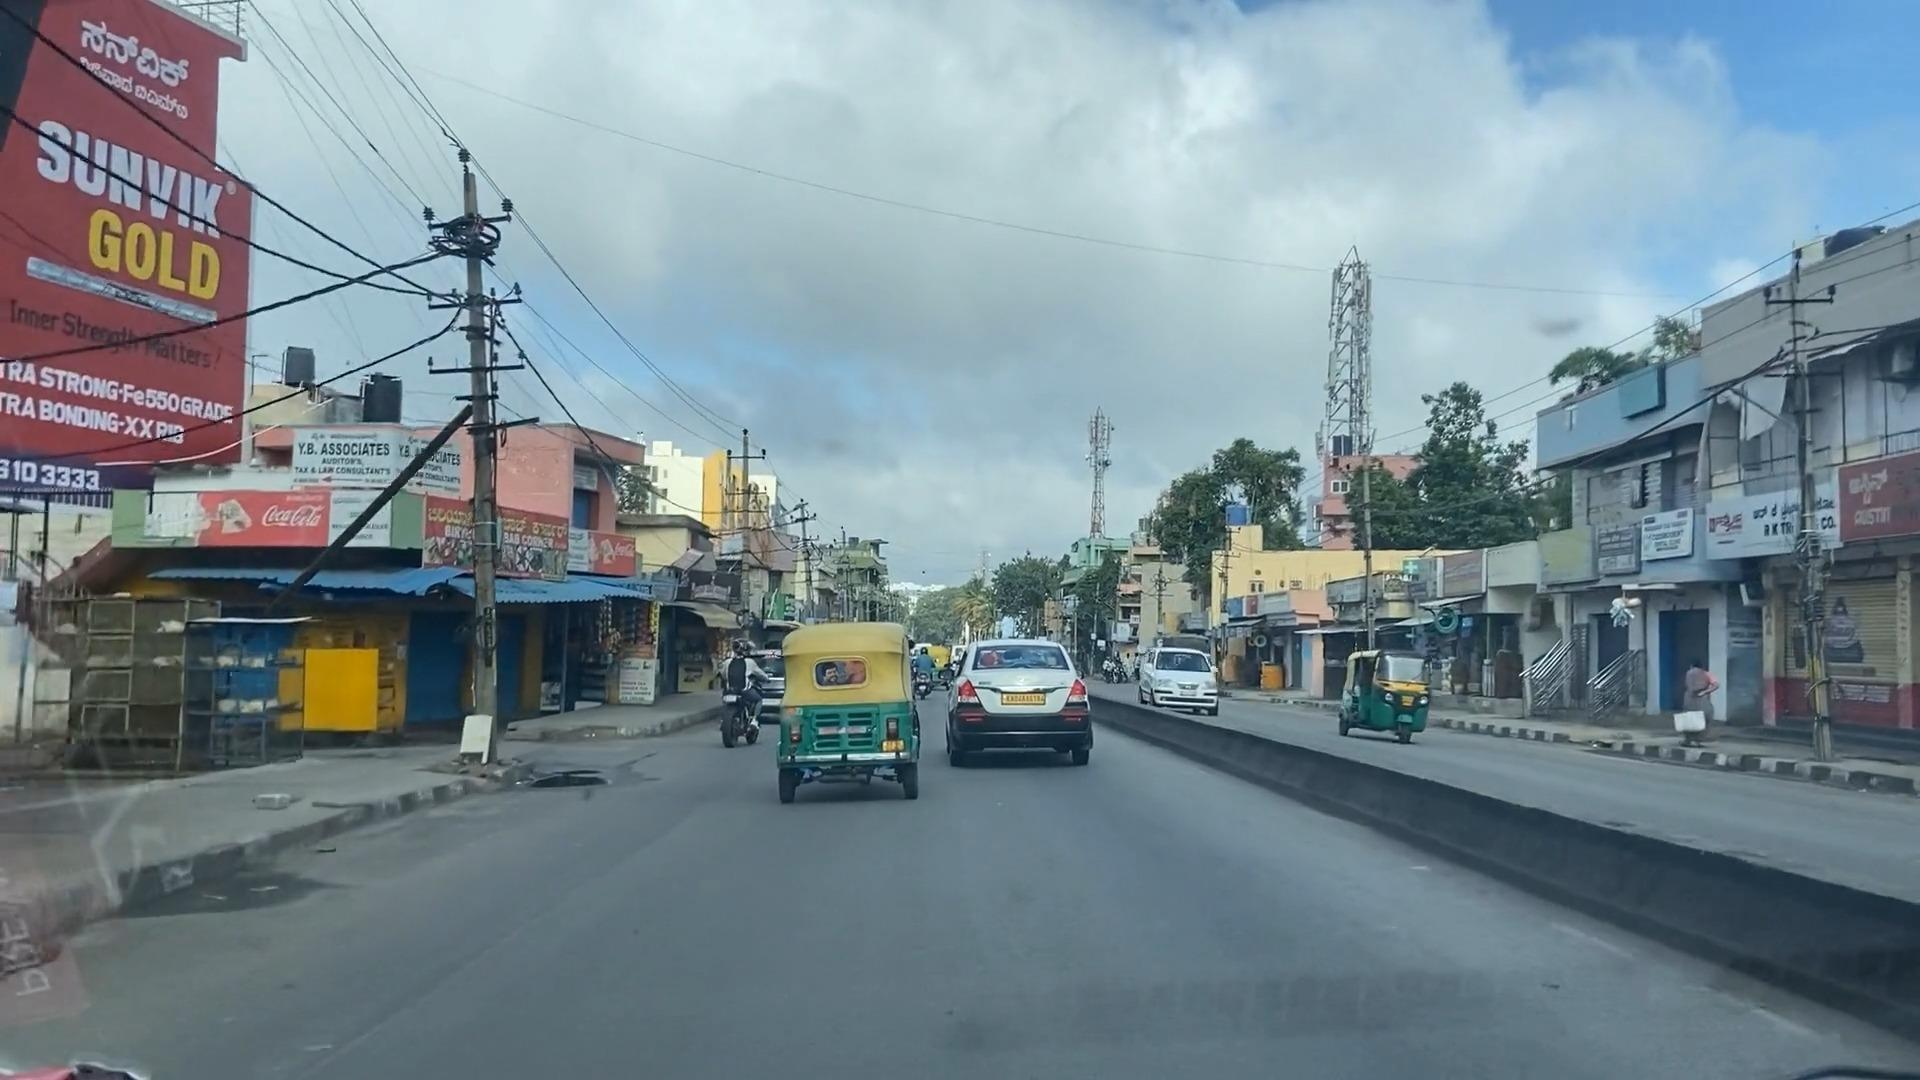LMV: (770, 628, 916, 800), (943, 638, 1102, 771)
